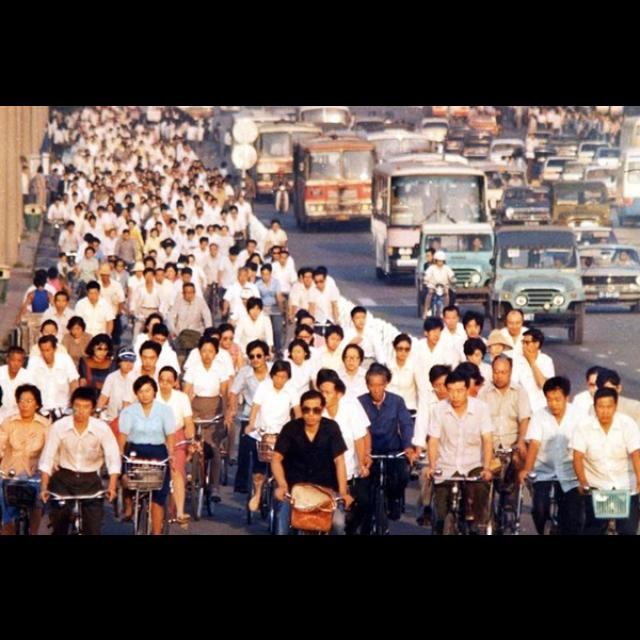With Helmet: (431, 246, 452, 266)
Without Helmet: (296, 387, 330, 425), (128, 372, 160, 406)
